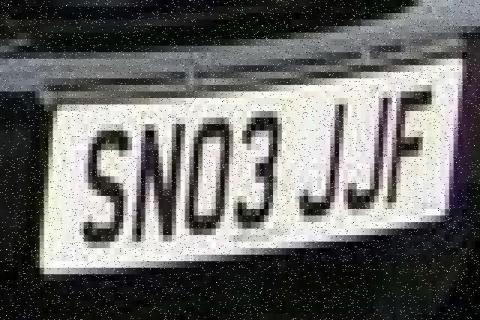LicensePlate: (39, 47, 463, 294)
